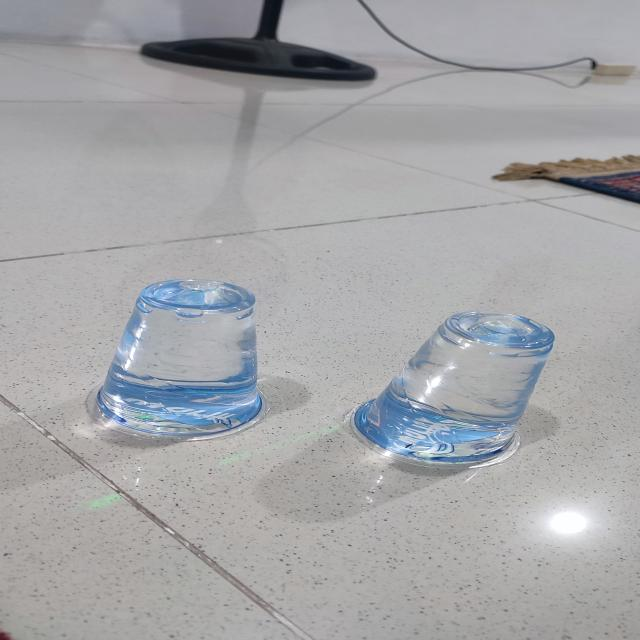air gelas: (350, 305, 571, 467), (88, 273, 278, 448)
